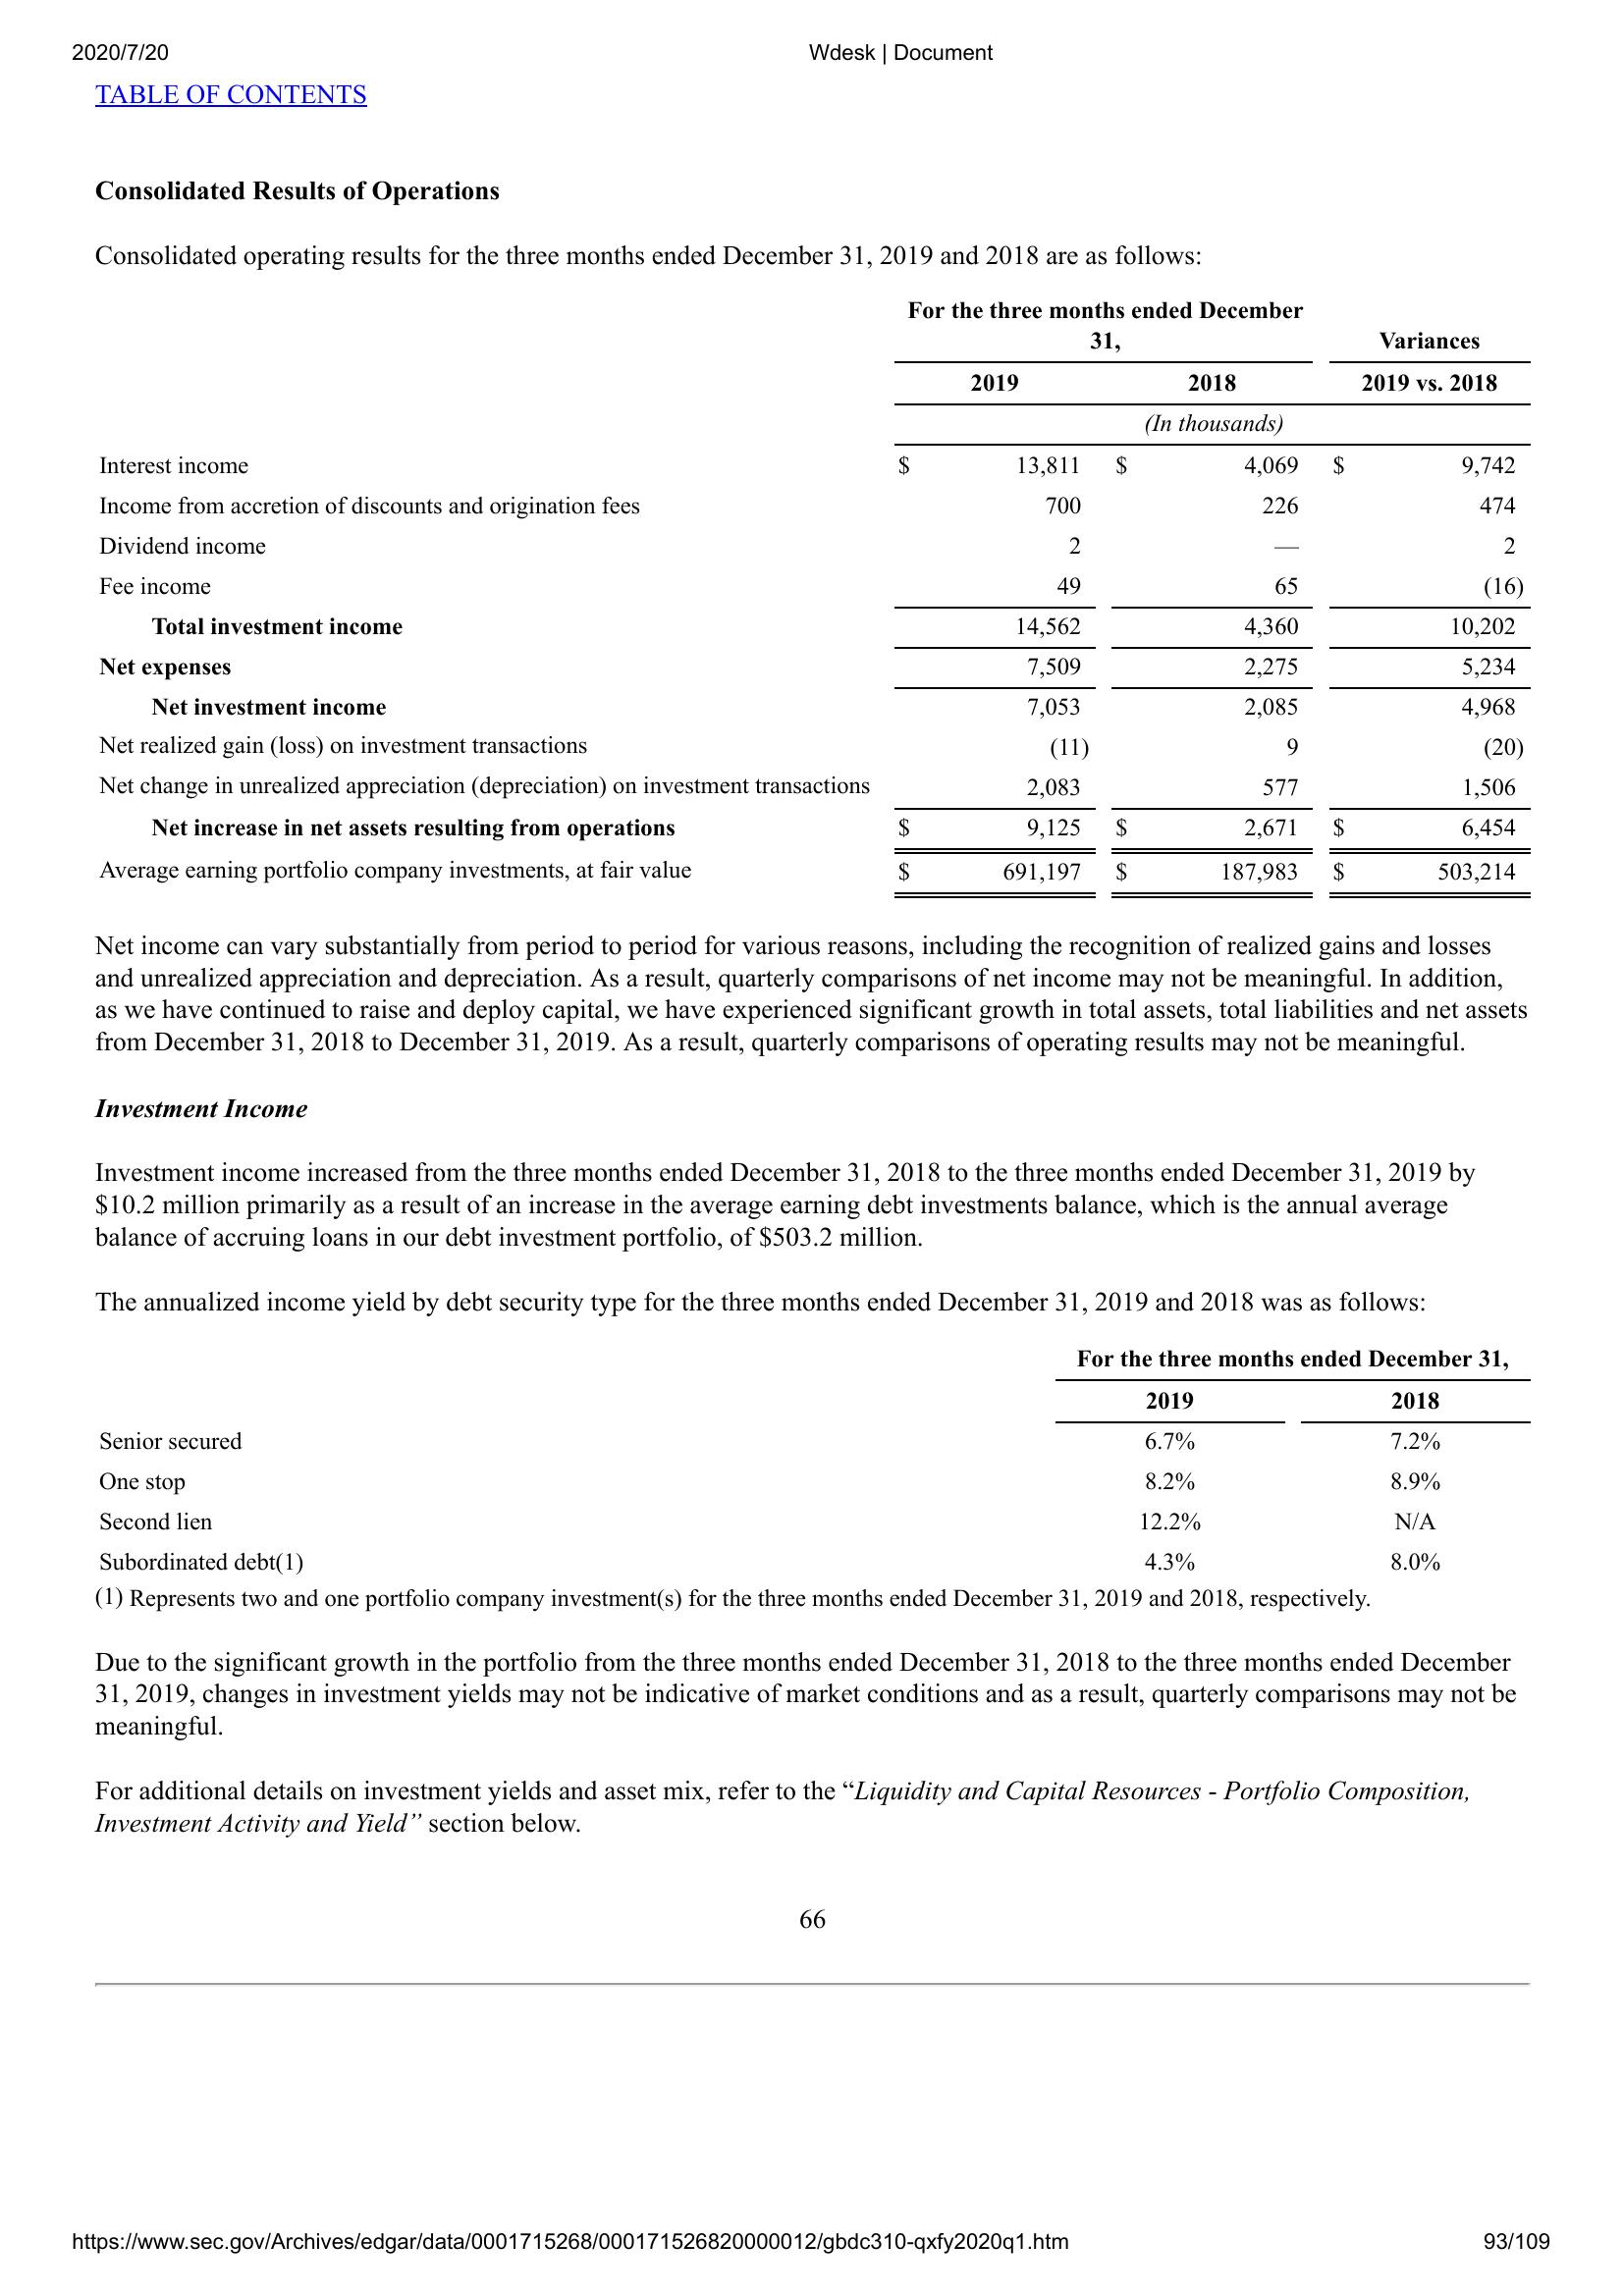table: (97, 297, 1535, 906), (81, 1348, 1537, 1582)
